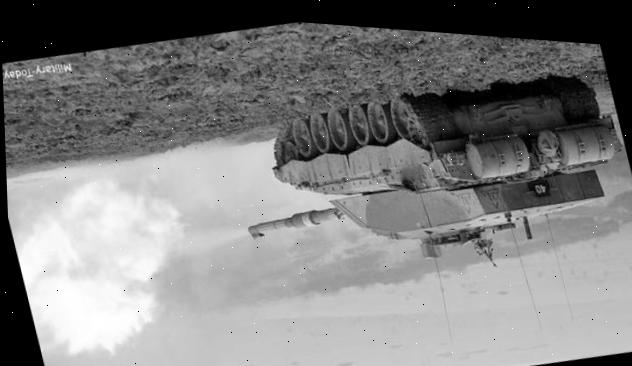tank: (213, 35, 632, 334)
